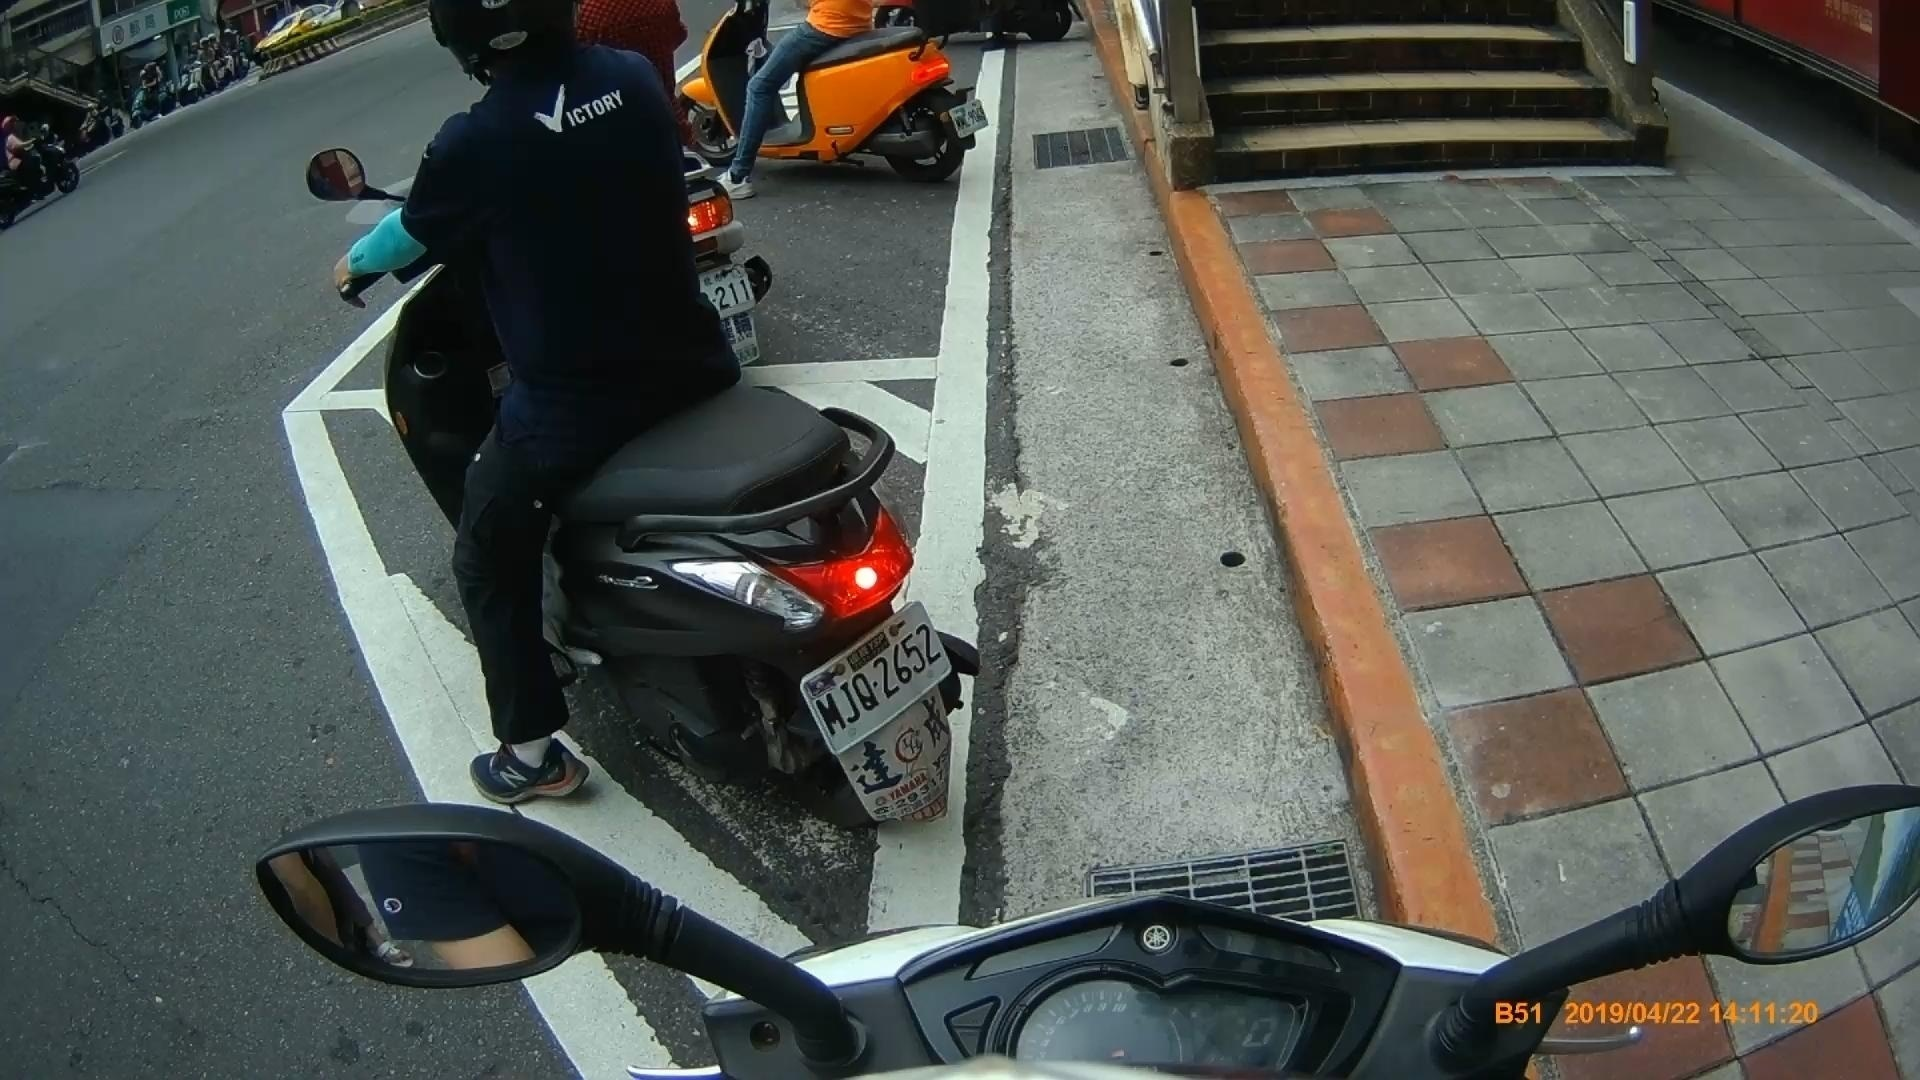License_plate: (790, 604, 962, 747)
